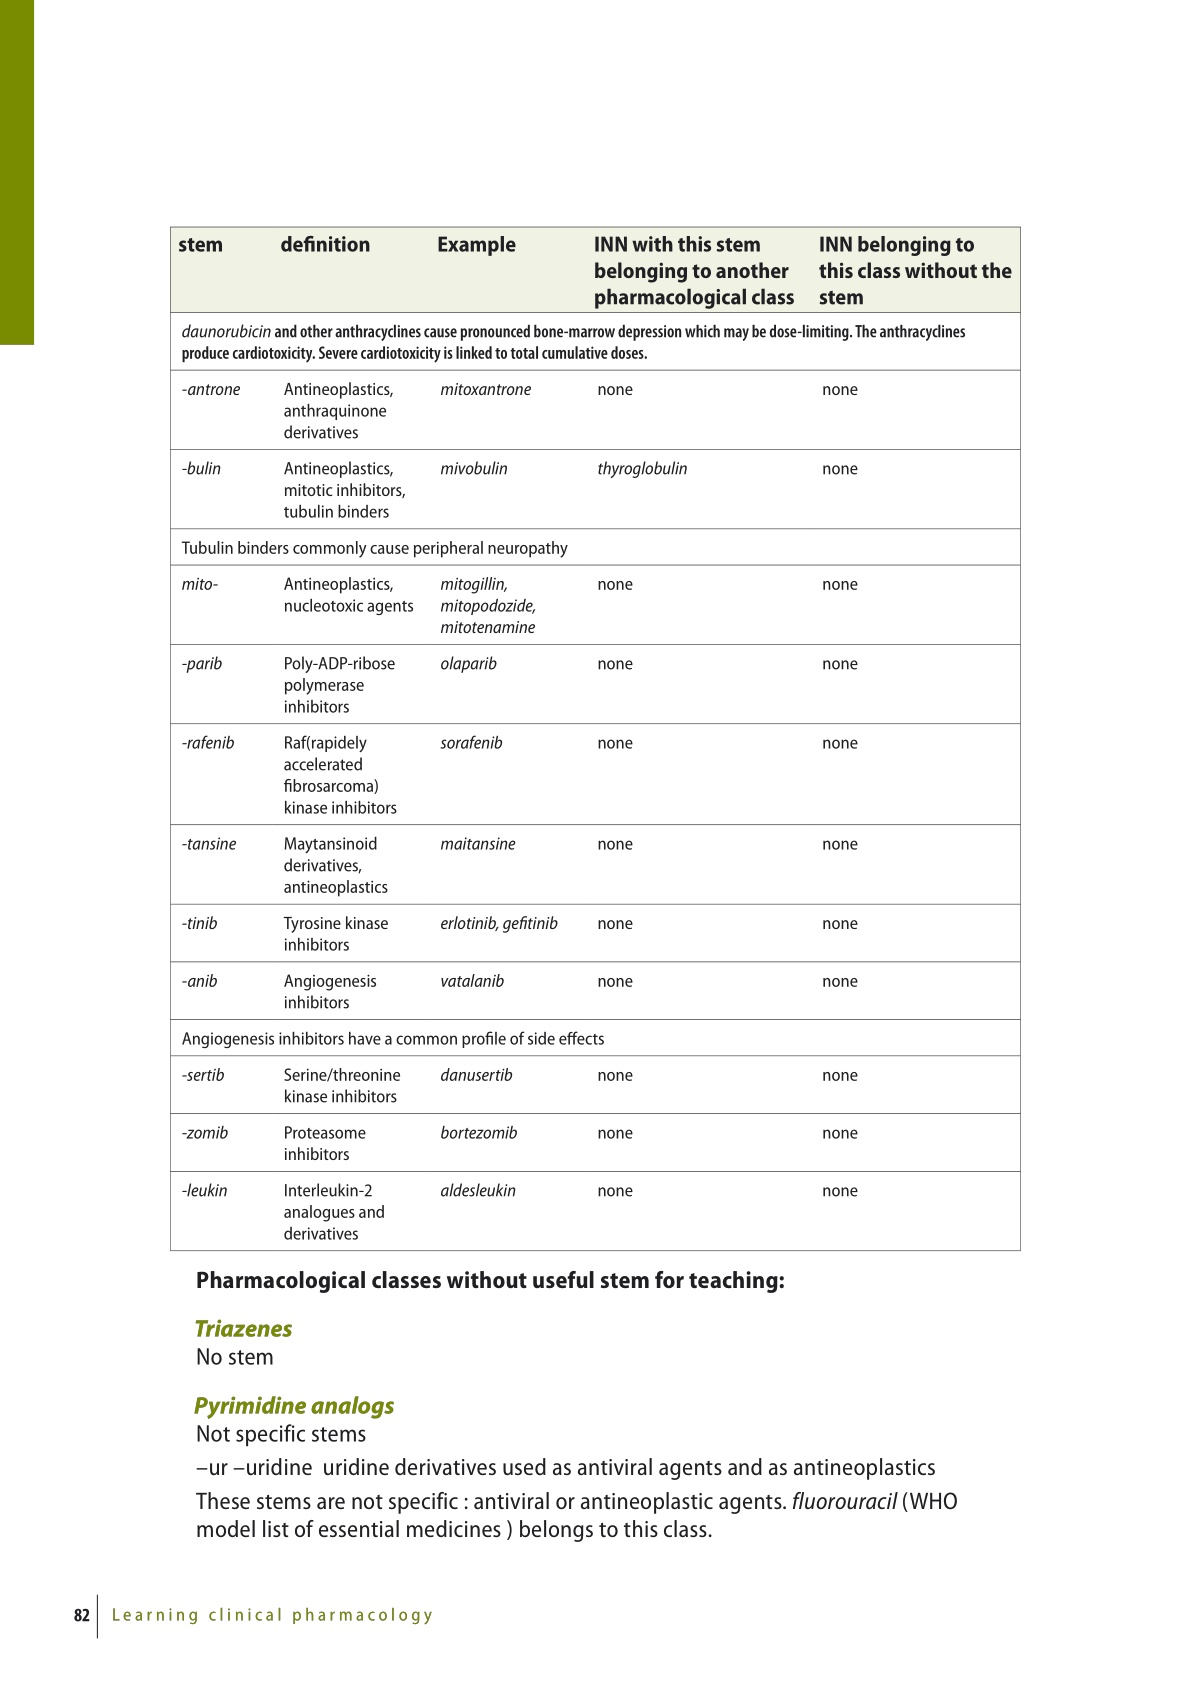partial_lined_merged_cells: (168, 224, 1022, 1254)
